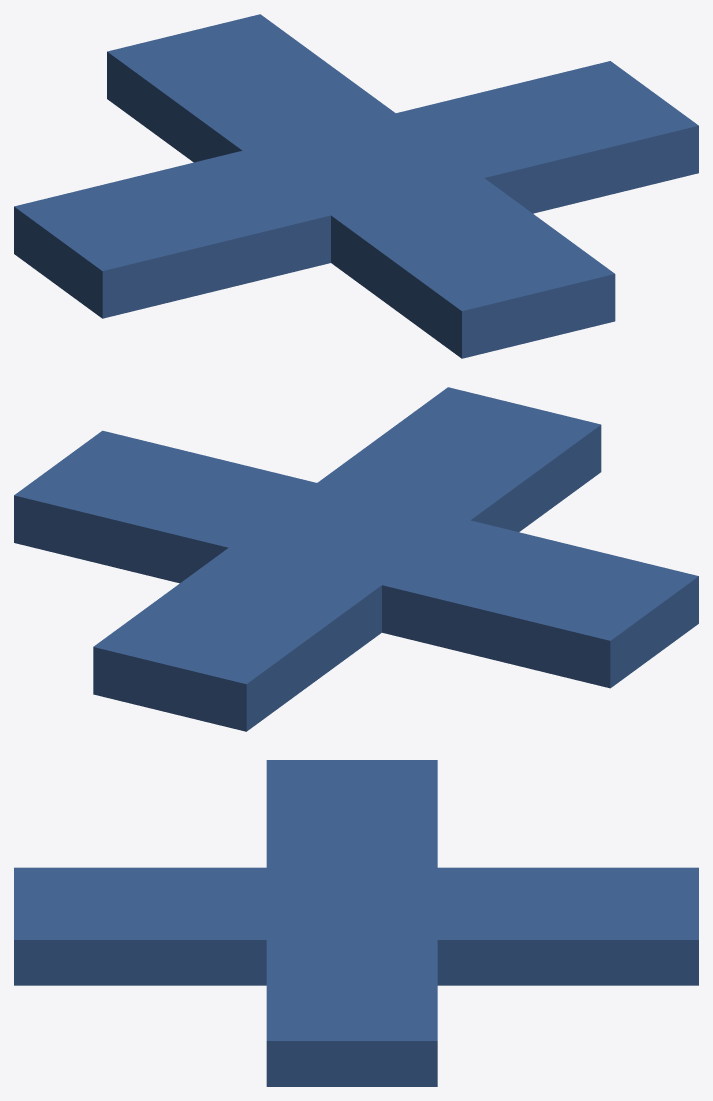
3 renders of one model, top to bottom at view 1: azimuth 30°, elevation 25°; view 2: azimuth 150°, elevation 25°; view 3: azimuth 270°, elevation 25°, orthographic. The views are drawn at different scales.
Parts seen in each view (by area): view 1: plus; view 2: plus; view 3: plus.
Part boxes in pixels (x1,y1,x2,y2): plus: (14, 14, 698, 358); plus: (14, 387, 698, 731); plus: (14, 760, 698, 1086).
Size of the model in its own units: 21.01 by 1.6 by 21.65.
